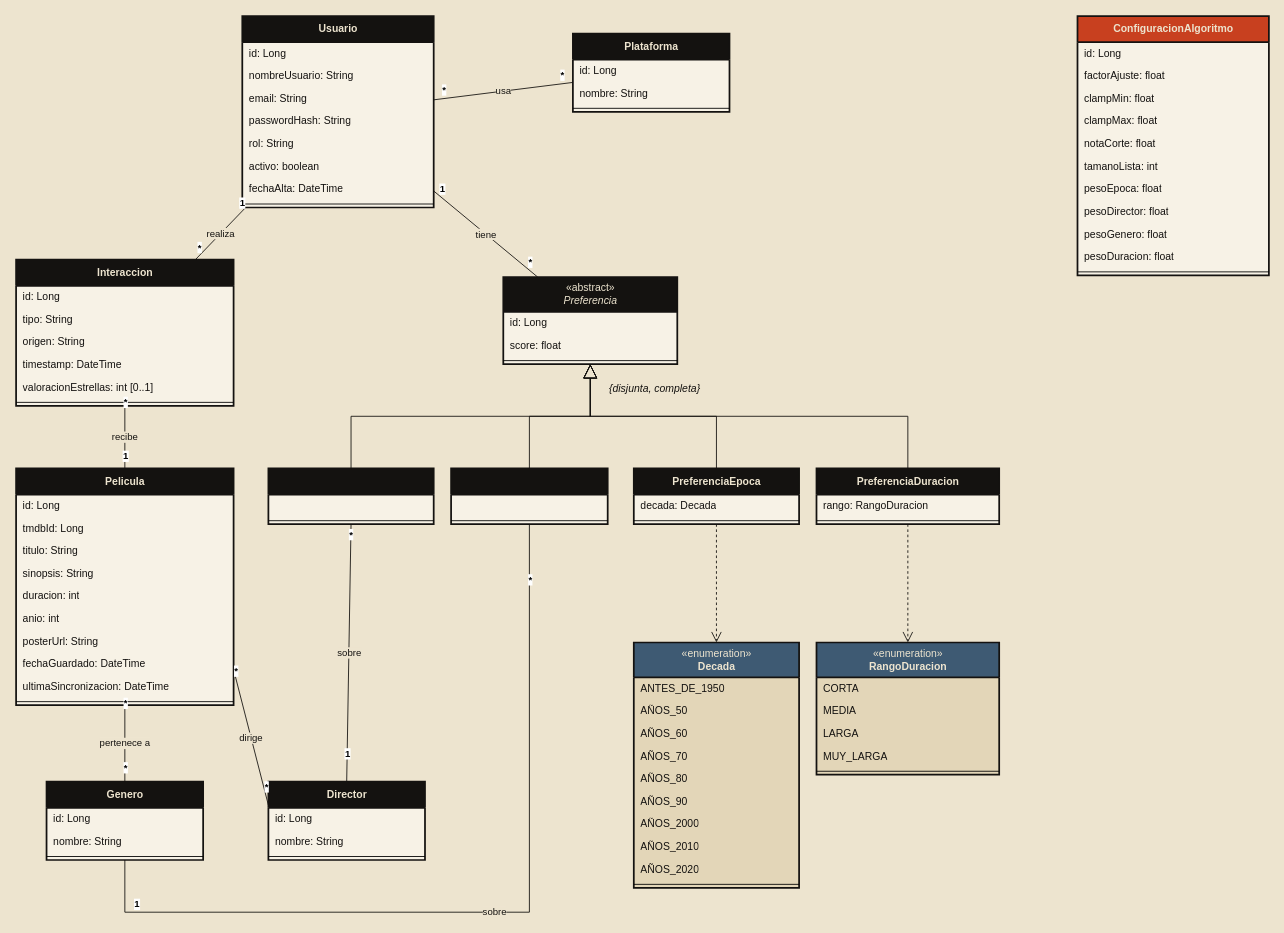
Some shapes in this 1284 by 933 pixel diagram are drawn without their labels. Each missing label, with the centre of its shape:
PreferenciaDirector: point 350,496
PreferenciaGenero: point 529,496
